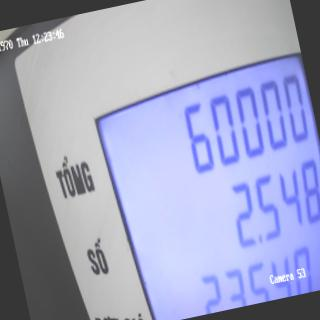screen: (80, 37, 320, 320)
